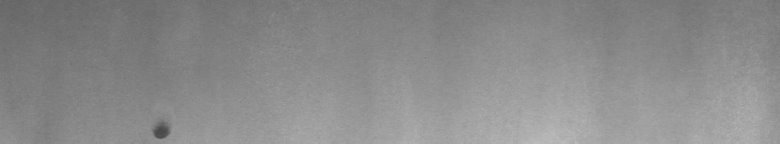fi: (148, 116, 175, 136)
